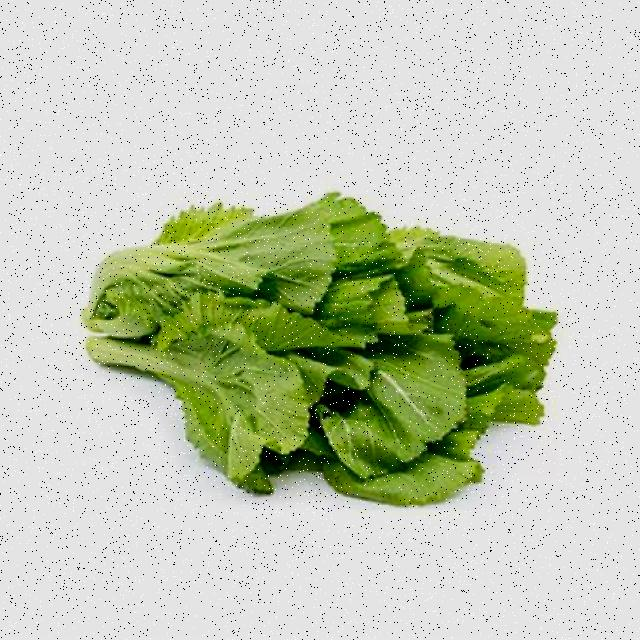NA: (43, 144, 583, 521)
